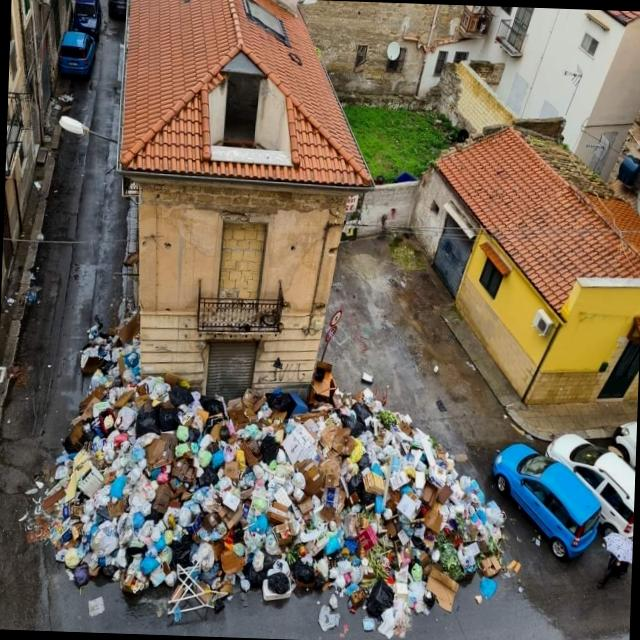garbage: (31, 356, 508, 640)
